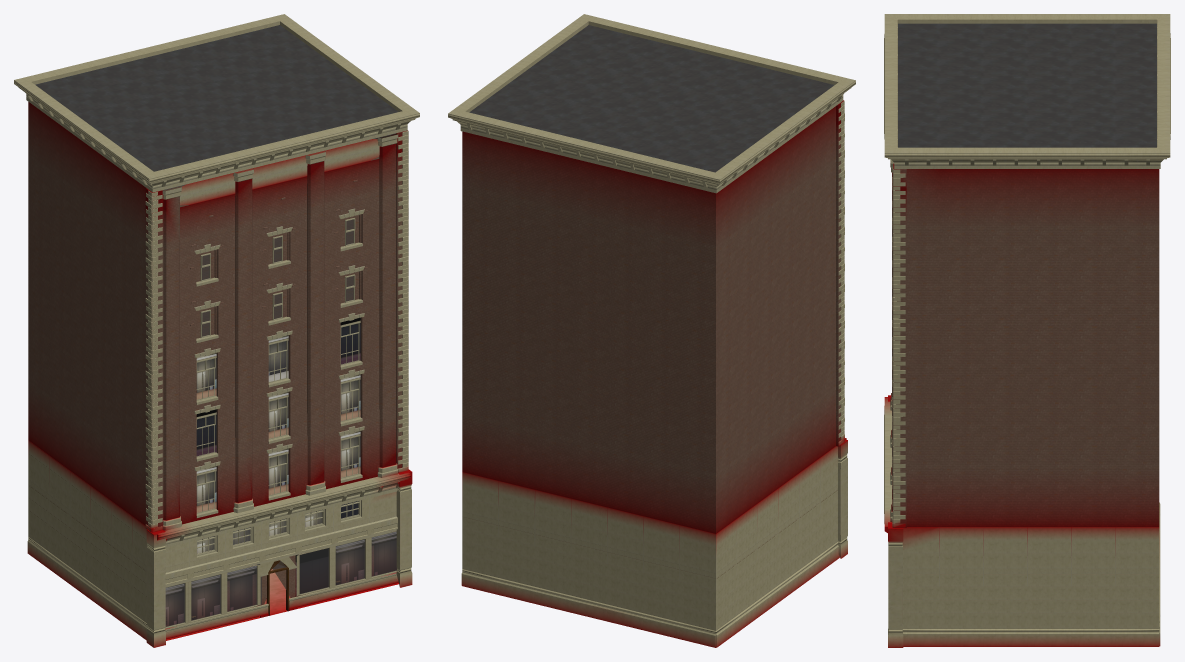
The model's file is building-medium-2-001_lod2.glb.
The picture shows the model from 3 angles, left to right: view 1: azimuth 30°, elevation 25°; view 2: azimuth 150°, elevation 25°; view 3: azimuth 270°, elevation 25°; orthographic projection. The views are drawn at different scales.
Size of the model in its own units: 15.06 by 25 by 13.06.
8 materials, 7 textured.
